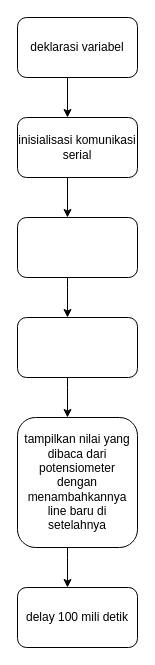
This 155x665 diagram has some shape labels left out. Each missing label, with the centre of its shape:
baca nilai analog dari potensiometer: point 77,247
tampilkan teks "data" di kolom serial monitor: point 77,347
